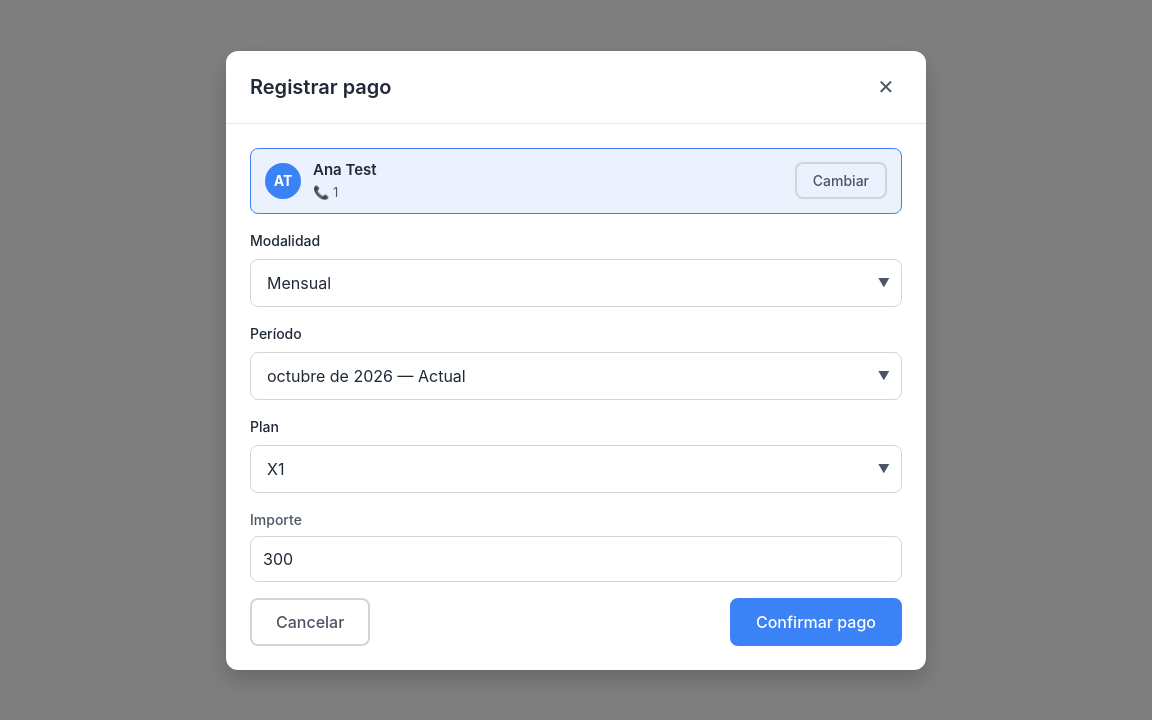
recalcula el precio histórico al cambiar período y plan
Expected: the number field labelled "Importe" holds "300", 250,536 -> 902,582
Select "noviembre de 2026" in the dropdown labelled "Período" at (576, 376), box 250,352 -> 902,400
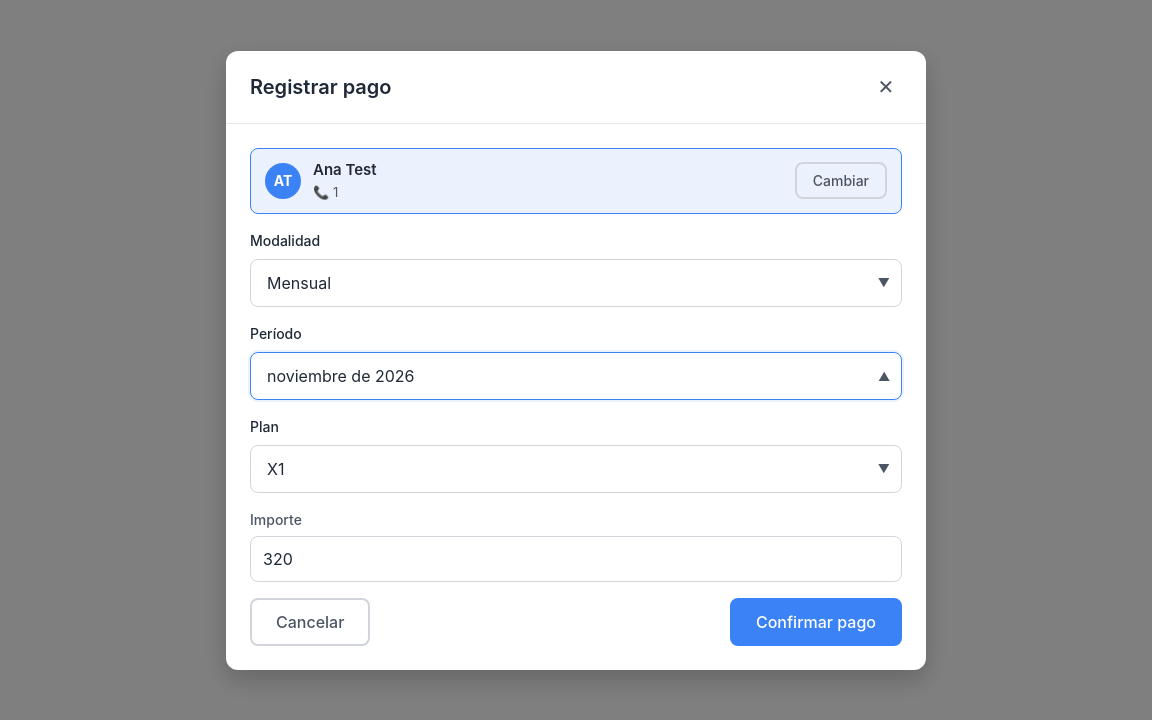
Expected: the number field labelled "Importe" holds "320", 250,536 -> 902,582
Select "X2" in the dropdown labelled "Plan" at (576, 468), box 250,444 -> 902,492
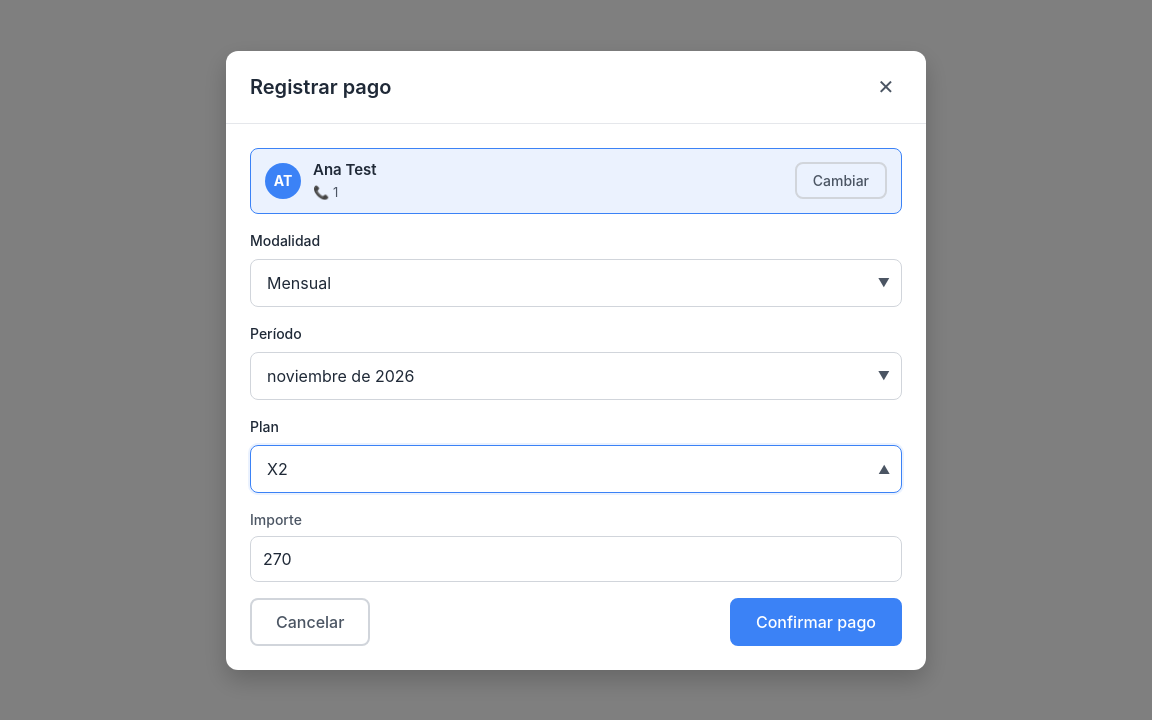
Expected: the number field labelled "Importe" holds "270", 250,536 -> 902,582
